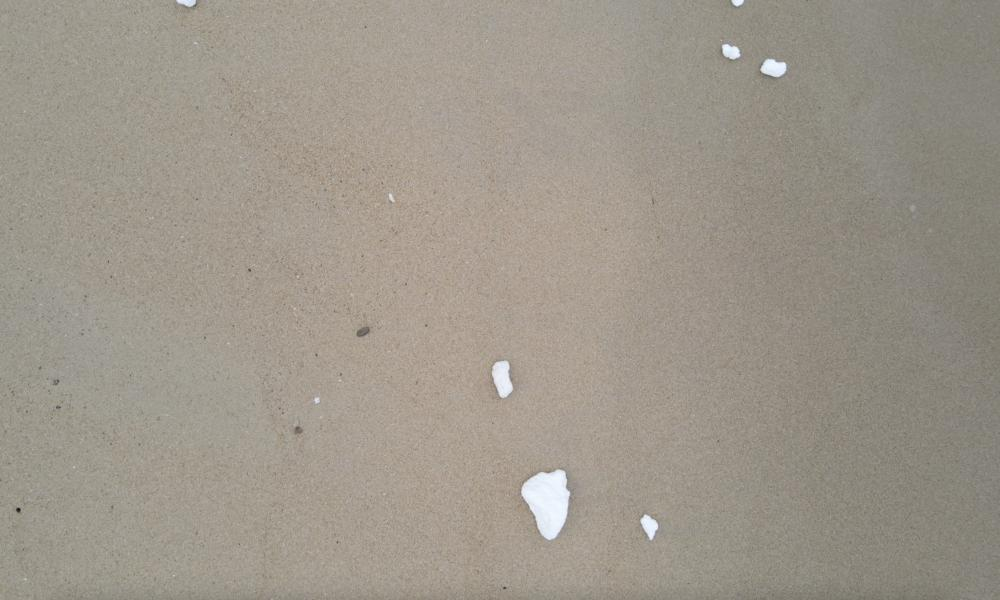styrofoam: (521, 465, 572, 542), (491, 357, 516, 400), (760, 56, 788, 78), (640, 512, 658, 542), (721, 40, 741, 61), (176, 0, 198, 9), (729, 0, 745, 8)
